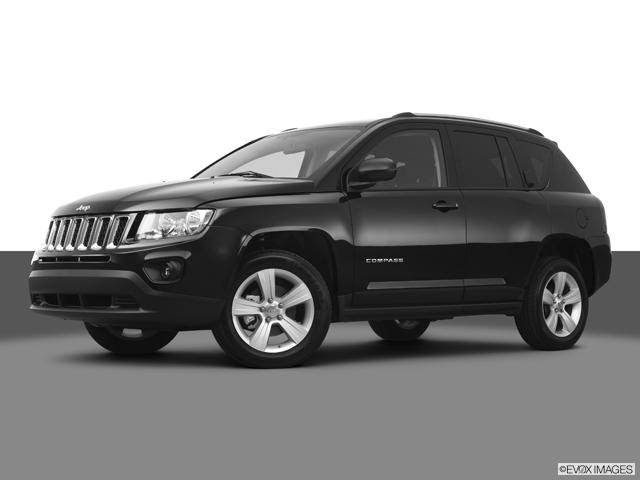car: (27, 113, 614, 369)
